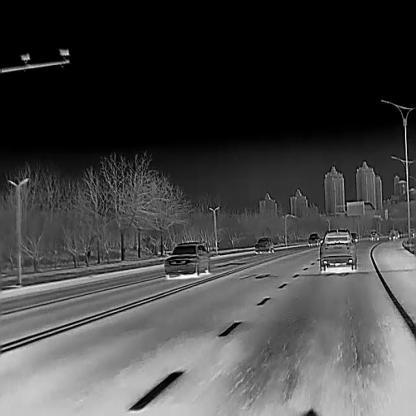car: (163, 241, 210, 277), (319, 229, 358, 271), (254, 236, 273, 253), (308, 233, 319, 246), (388, 228, 399, 239), (370, 231, 379, 240), (350, 232, 358, 242)
